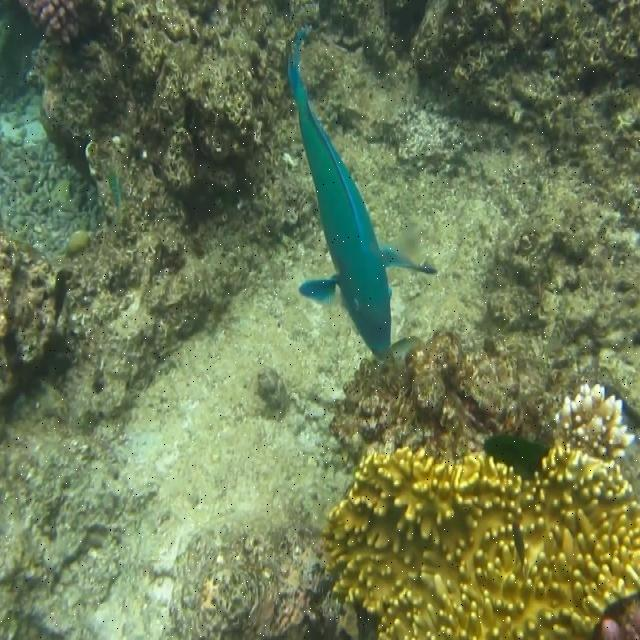fish: (287, 29, 438, 355), (108, 164, 123, 214), (52, 269, 65, 321)
reefs: (320, 383, 639, 639)
